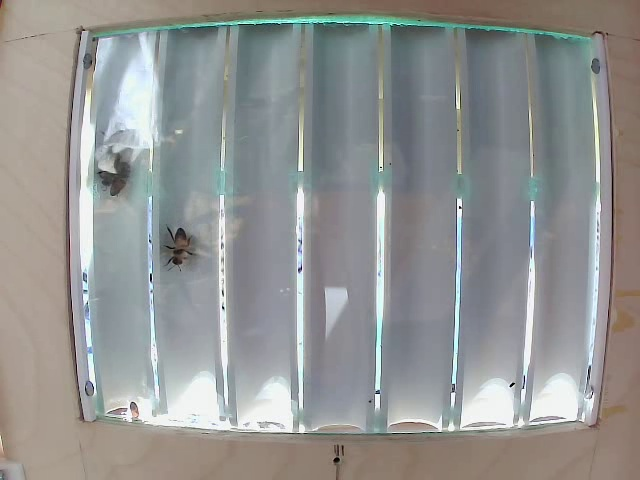bee: (99, 140, 150, 211), (160, 216, 211, 281)
